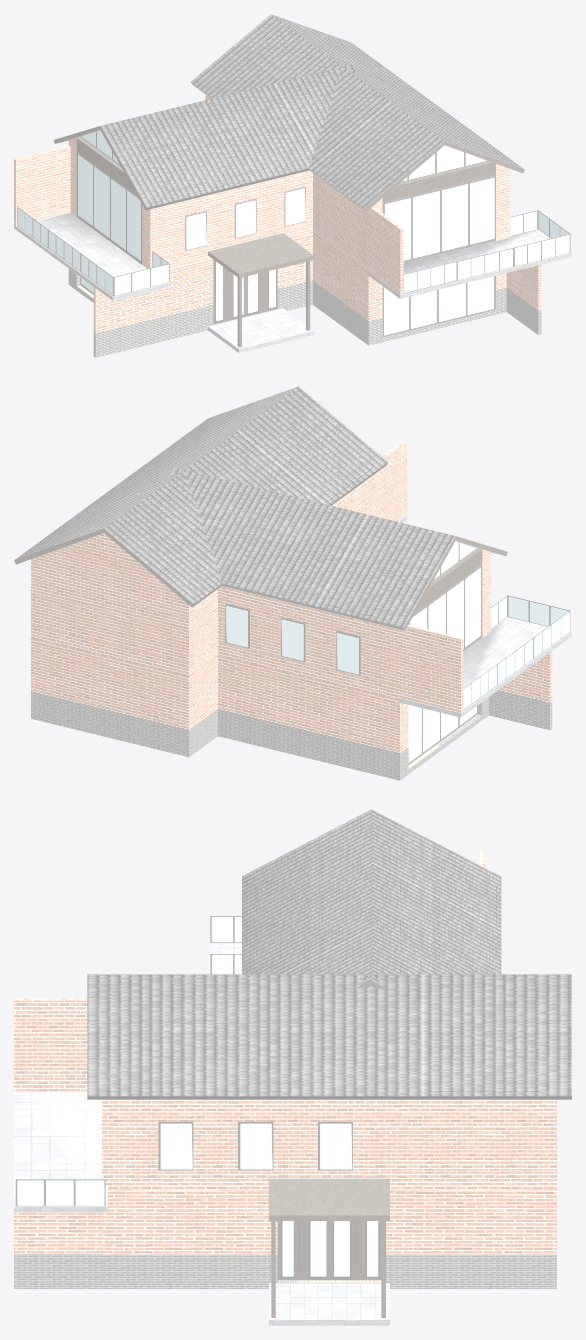
Rendered from Building.glb.
The picture shows the model from 3 angles, top to bottom: view 1: azimuth 30°, elevation 25°; view 2: azimuth 150°, elevation 25°; view 3: azimuth 270°, elevation 25°; orthographic projection. The views are drawn at different scales.
Parts seen in each view (by area): view 1: Building; view 2: Building; view 3: Building.
Part boxes in pixels (x1=…): Building: x1=14, y1=14, x2=571, y2=357; Building: x1=14, y1=386, x2=571, y2=780; Building: x1=14, y1=809, x2=571, y2=1325.
Size of the model in its own units: 10.07 by 4.45 by 8.46.
Materials: 1 (1 with a texture image).
